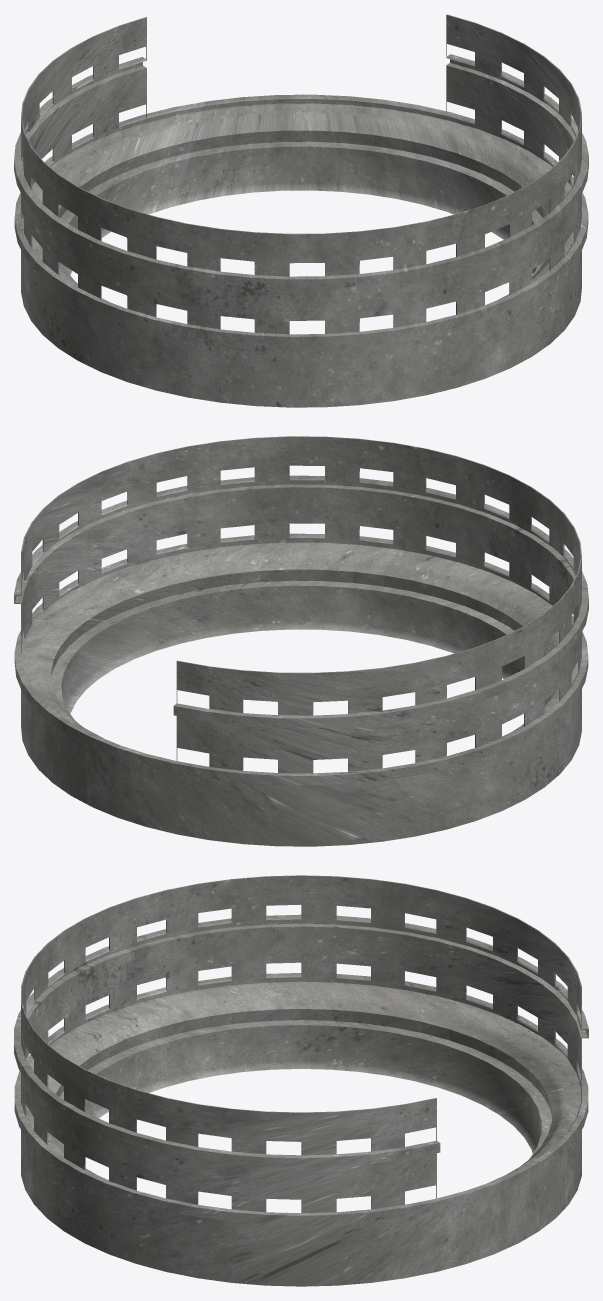
Rendered from stadium.glb.
3 views of the same model, one above another, from view 1: azimuth 30°, elevation 25°; view 2: azimuth 150°, elevation 25°; view 3: azimuth 270°, elevation 25° (orthographic).
Visible parts, largest first — view 1: stadium2; view 2: stadium2; view 3: stadium2.
Part boxes in pixels (left/top/right/bottom): stadium2: left=14, top=14, right=588, bottom=407; stadium2: left=14, top=436, right=588, bottom=846; stadium2: left=14, top=875, right=588, bottom=1286.
Size of the model in its own units: 1016 by 338 by 1014.
Materials: 1 (1 with a texture image).
